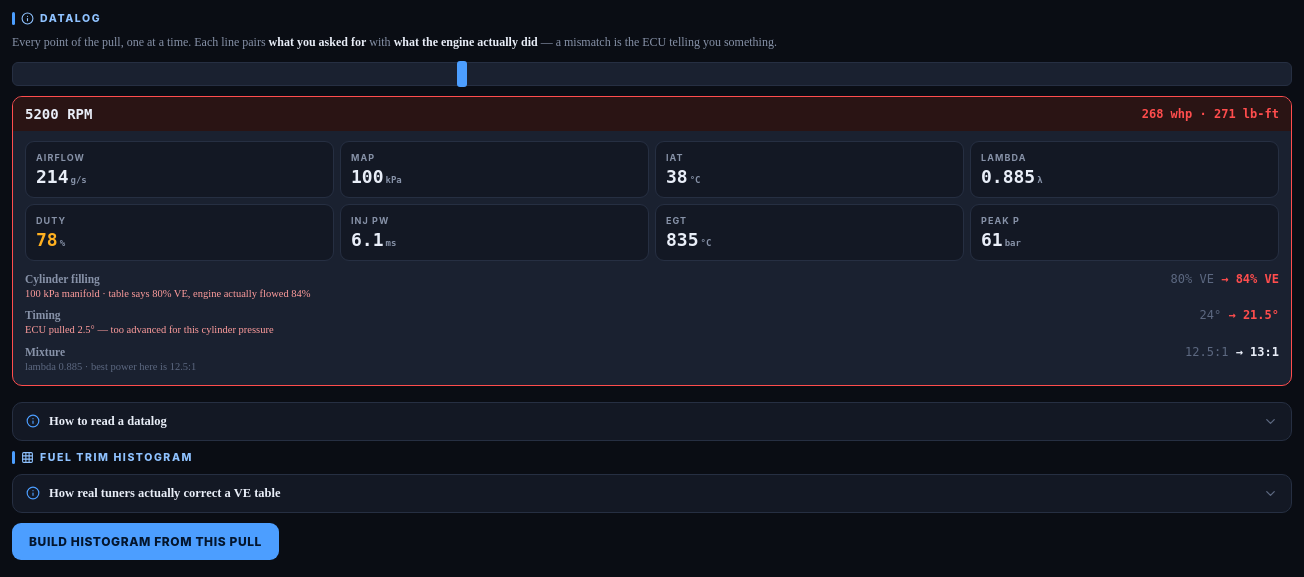
Test case: DataScreen › moves the readout when the track moves
Expected: the text "5200 RPM" is shown, [25,106,92,122]
Step 1. Set the slider named "Scrub the pull by RPM" to "4500" → (21, 74), box [13,63,1291,85]
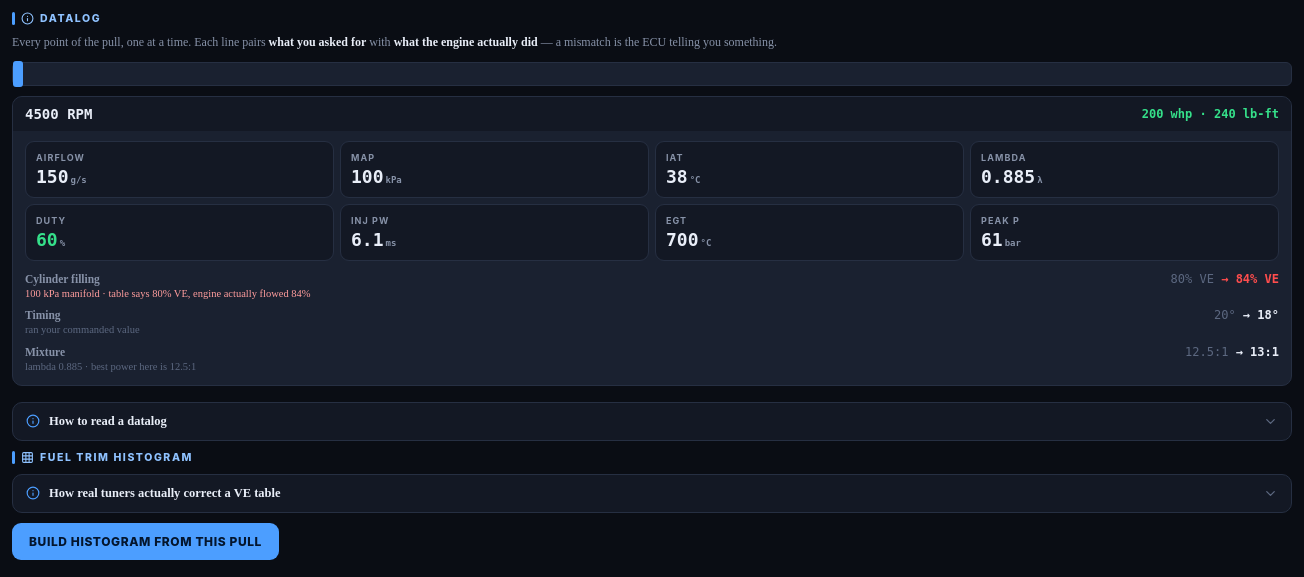
Result: the text "4500 RPM" is shown at [25,106,92,122]
Result: the text "5200 RPM" is gone
